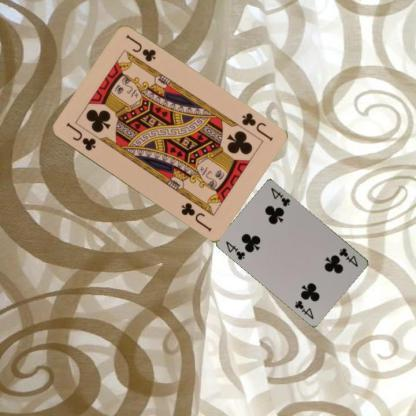4c: (223, 238, 247, 261), (336, 246, 360, 268)
Jc: (238, 110, 274, 142), (63, 120, 97, 153)
